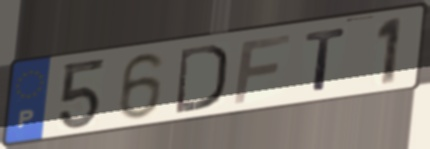1: (374, 14, 405, 87)
5: (56, 57, 109, 132)
6: (115, 49, 168, 122)
D: (174, 41, 230, 116)
F: (230, 31, 294, 107)
T: (303, 25, 350, 94)
